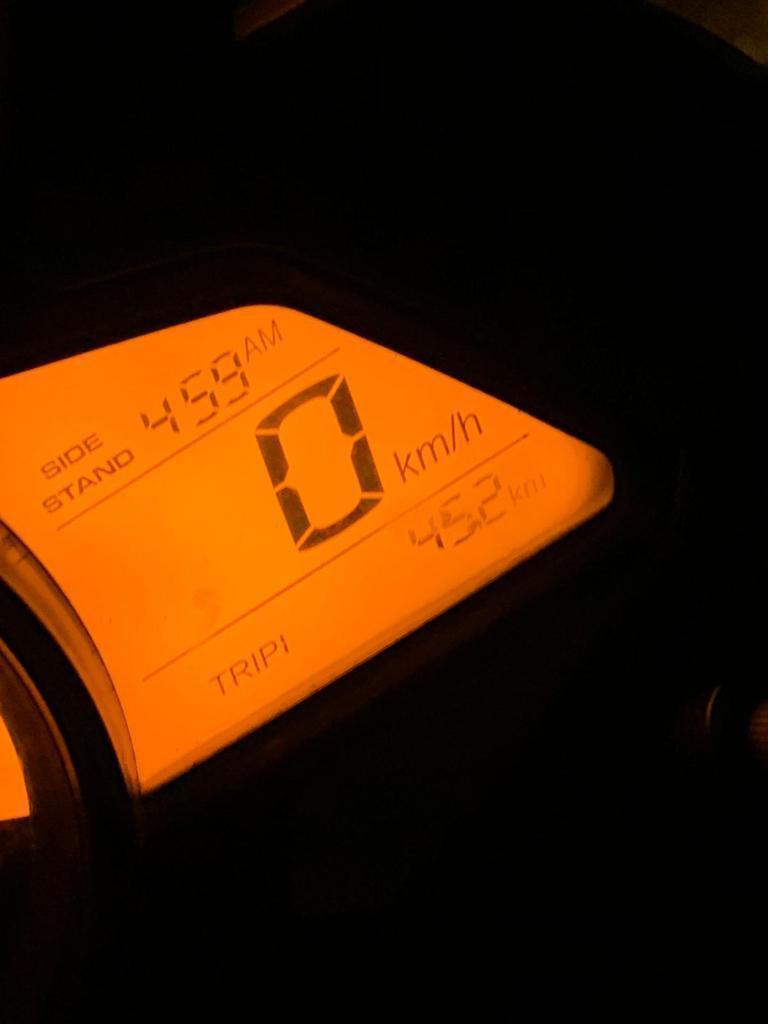,: (476, 518, 484, 533)
0: (255, 383, 388, 548)
2: (471, 469, 509, 526)
4: (138, 392, 183, 437), (403, 518, 447, 557)
5: (177, 370, 221, 426), (437, 489, 477, 548)
9: (212, 348, 251, 401)
X: (455, 405, 489, 446), (413, 435, 450, 470), (258, 317, 285, 350), (390, 448, 415, 481), (204, 669, 230, 698), (444, 412, 461, 453), (111, 444, 135, 473), (228, 656, 251, 685), (258, 638, 278, 669), (241, 333, 263, 361), (92, 458, 115, 481), (39, 493, 62, 516), (38, 457, 59, 481), (77, 471, 97, 495), (63, 443, 85, 464), (81, 431, 104, 451), (523, 476, 547, 495), (506, 481, 522, 506), (56, 481, 75, 502), (248, 648, 260, 677), (55, 453, 66, 472)
odometer: (1, 297, 622, 802)
